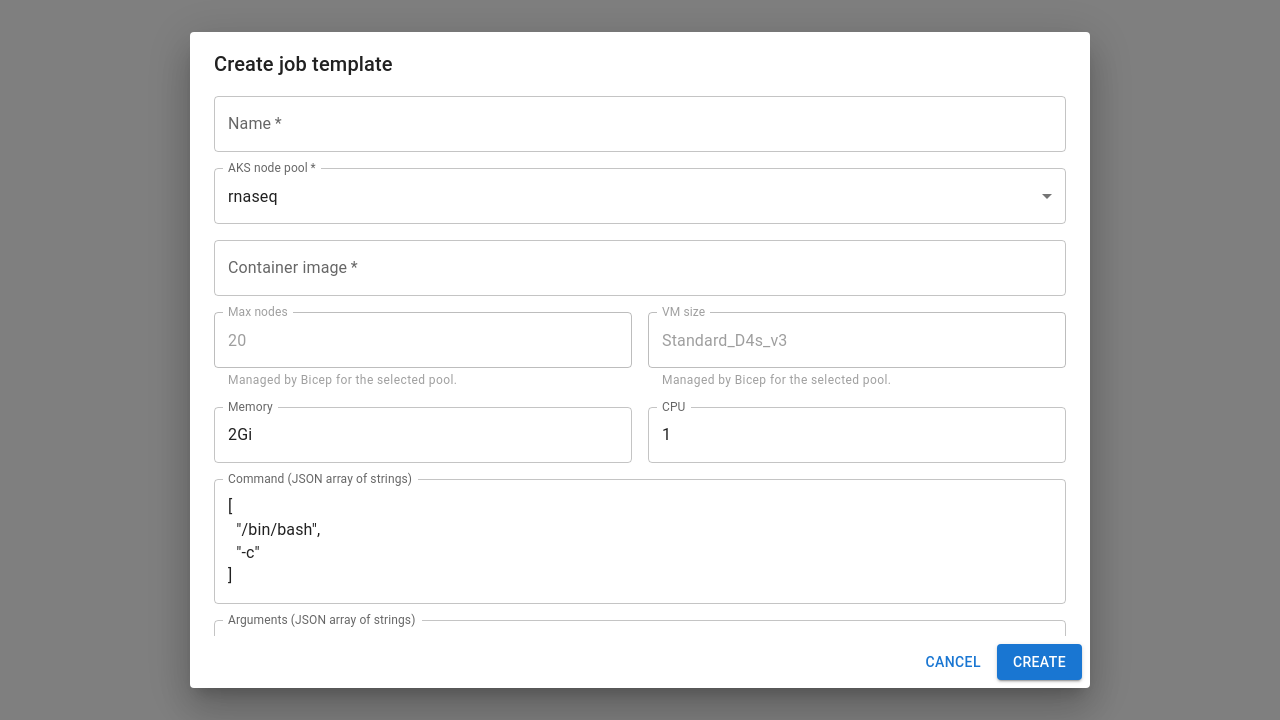
it: job template creation › keeps the form open and shows API creation errors
Type "rnaseq" into the field labelled "Name *".
click(640, 124); type("rnaseq")  # box [214,96,1066,152]
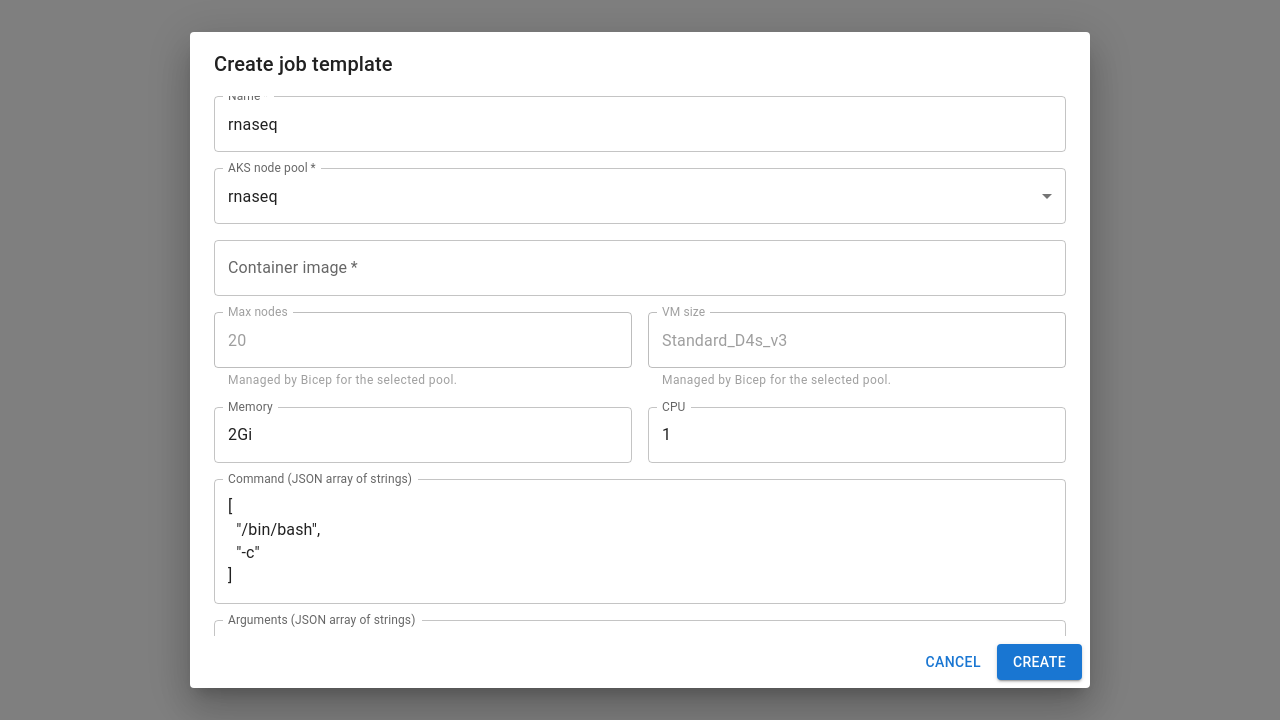
Type "example/worker:v1" into the field labelled "Container image *".
click(640, 268); type("example/worker:v1")  # box [214,240,1066,296]
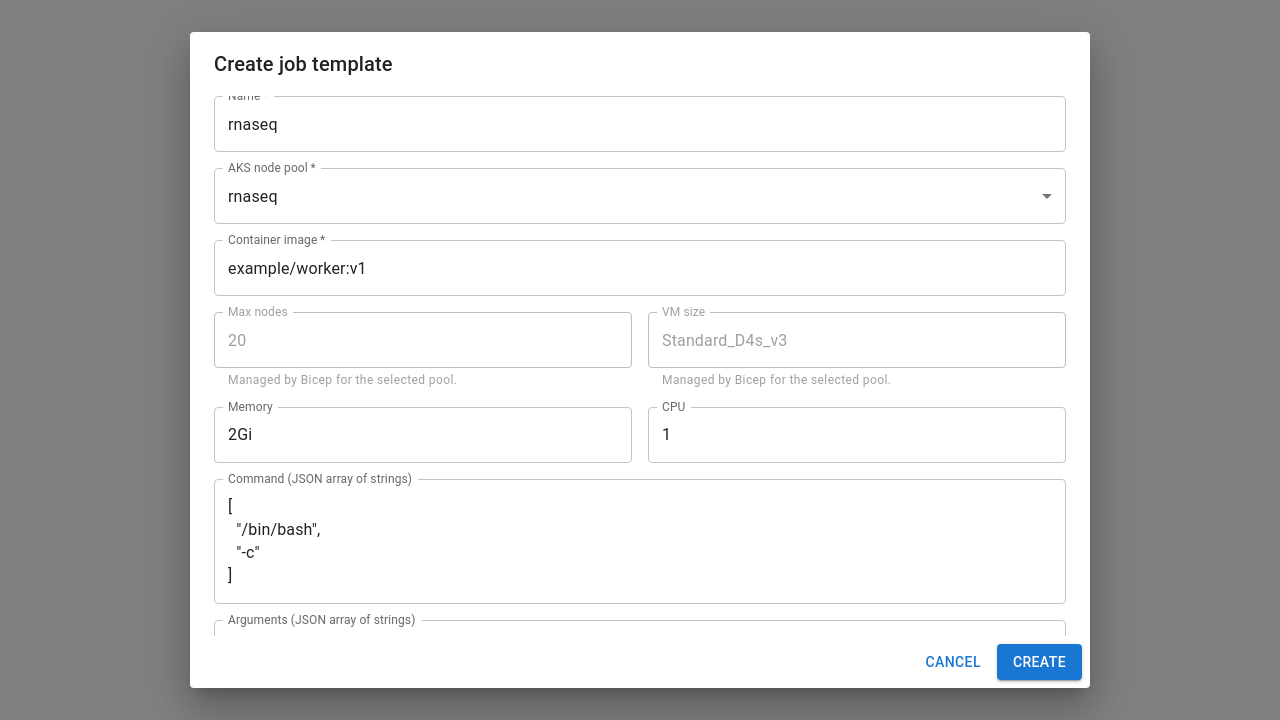
Click the button "Create".
click(1039, 662)  # box [997,644,1082,680]
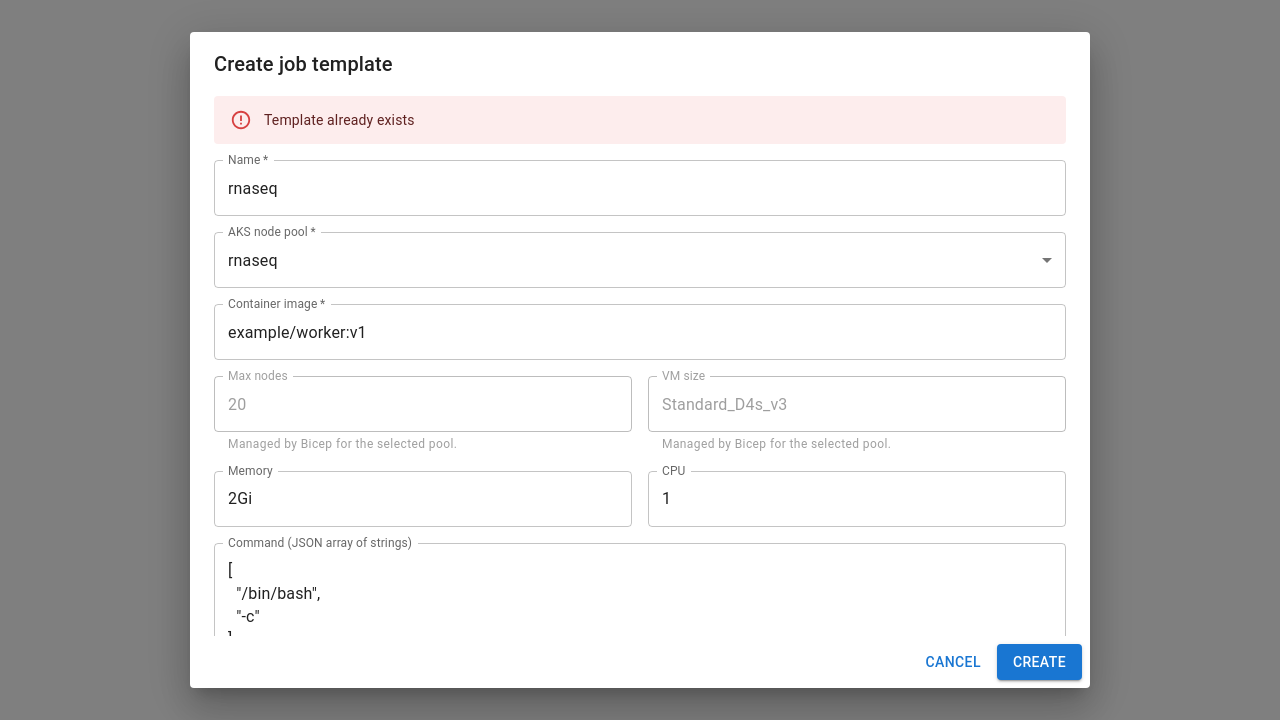
Expected: the message reads "Template already exists", [264,112,415,128]
